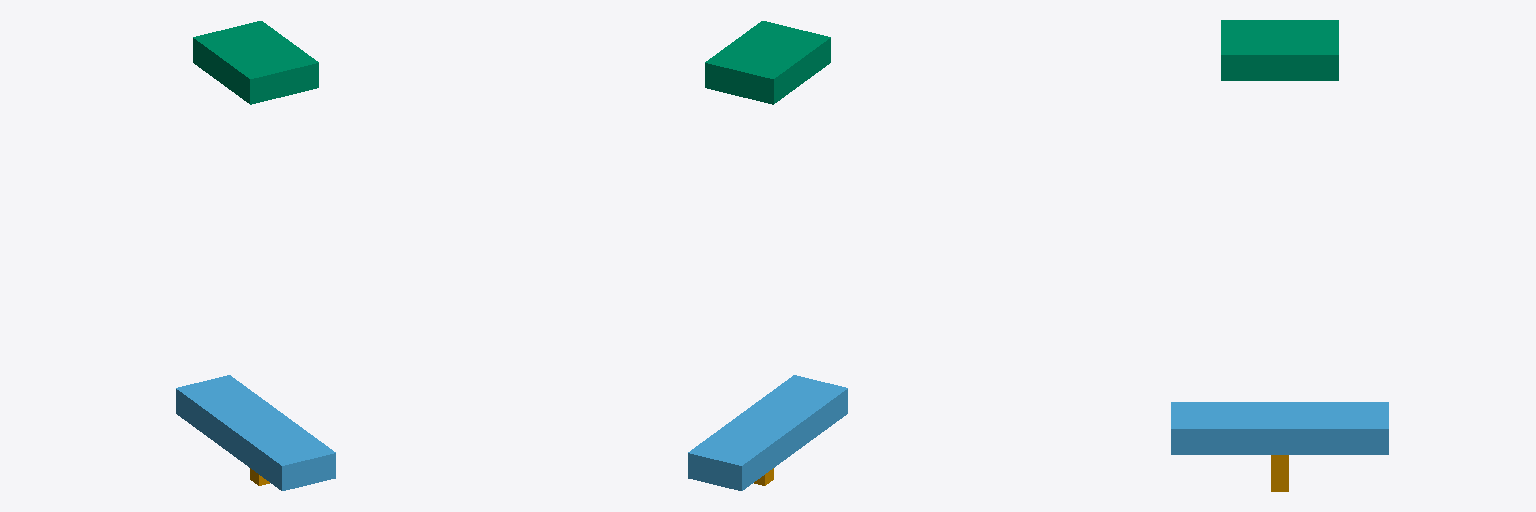
URDF robot description (threeLinkHuman_subject1):
<robot name="threeLinkHuman_subject1">
    <link name="foot">
        <inertial>
            <mass value="2.191"/>
            <origin xyz="0 0 0" rpy="0 0 0" />
            <inertia ixx="0.004" iyy="0.011" izz="0.013" ixy="0" ixz="0" iyz="0"/>
        </inertial>

        <visual>
            <geometry>
                <box size="0.128 0.072 0.229"/>
            </geometry>
        </visual>

        <collision>
            <geometry>
                <box size="0.128 0.072 0.229"/>
            </geometry>
        </collision>
    </link>
    
    <link name="leg">
        <inertial>
            <mass value="26.287"/>
            <origin xyz="0 0 0.072" rpy="0 0 0" />
            <inertia ixx="1.798" iyy="1.684" izz="0.171" ixy="0" ixz="0" iyz="0"/>
        </inertial>

        <visual>
            <origin xyz="0 0 0.072" rpy="0 0 0" />
            <geometry>
                <box size="0.255 0.869 0.114"/>
            </geometry>
        </visual>

        <collision>
            <origin xyz="0 0 0.072" rpy="0 0 0" />
            <geometry>
                <box size="0.255 0.869 0.114"/>
            </geometry>
        </collision>
    </link>
    
    <link name="torso">
        <inertial>
            <mass value="18.059"/>
            <origin xyz="0 0 0.869" rpy="0 0 0" />
            <inertia ixx="0.490" iyy="0.352" izz="0.177" ixy="0" ixz="0" iyz="0"/>
        </inertial>

        <visual>
            <origin xyz="0 0 0.869" rpy="0 0 0" />
            <geometry>
                <box size="0.324 0.470 0.114"/>
            </geometry>
        </visual>

        <collision>
            <origin xyz="0 0 0.869" rpy="0 0 0" />
            <geometry>
                <box size="0.324 0.470 0.114"/>
            </geometry>
        </collision>
    </link>
        
    <joint name="ankle" type="revolute">
        <origin xyz="-0.0575 0.0 0.036" rpy="0 0 0"/>
        <parent link="foot"/>
        <child link="leg"/>
        <dynamics damping="0.1" friction="0.0"/>
        <limit effort="30" velocity="1.0" lower="-10.0" upper="10.0" />
        <axis xyz="0 1 0" />
    </joint>
    
    <joint name="hip" type="revolute">
        <origin xyz="0.0 0.0 0.869" rpy="0 0 0"/>
        <parent link="leg"/>
        <child link="torso"/>
        <dynamics damping="0.1" friction="0.0"/>
        <limit effort="30" velocity="1.0" lower="-10.0" upper="10.0" />
        <axis xyz="0 1 0" />
    </joint>

</robot>

--- Render facts (derived) ---
The picture shows the robot from 3 angles, left to right: view 1: azimuth 30°, elevation 25°; view 2: azimuth 150°, elevation 25°; view 3: azimuth 270°, elevation 25°; orthographic projection.
Robot: threeLinkHuman_subject1 — 3 links, 2 joints (2 revolute); root link foot; default pose: every joint at zero.
Visible links, largest first — view 1: leg, torso; view 2: leg, torso; view 3: leg, torso, foot.
Link boxes in pixels (bbox=[...]): leg: bbox=[176, 375, 335, 490]; torso: bbox=[193, 21, 318, 104]; leg: bbox=[688, 375, 847, 490]; torso: bbox=[705, 21, 830, 104]; leg: bbox=[1171, 402, 1388, 454]; torso: bbox=[1221, 20, 1338, 80]; foot: bbox=[1271, 455, 1288, 491].
Bounding box of the posed robot: 0.324 × 0.869 × 1.95 m (x, y, z).
Geometry: primitives only (box / cylinder / sphere), no mesh files.
